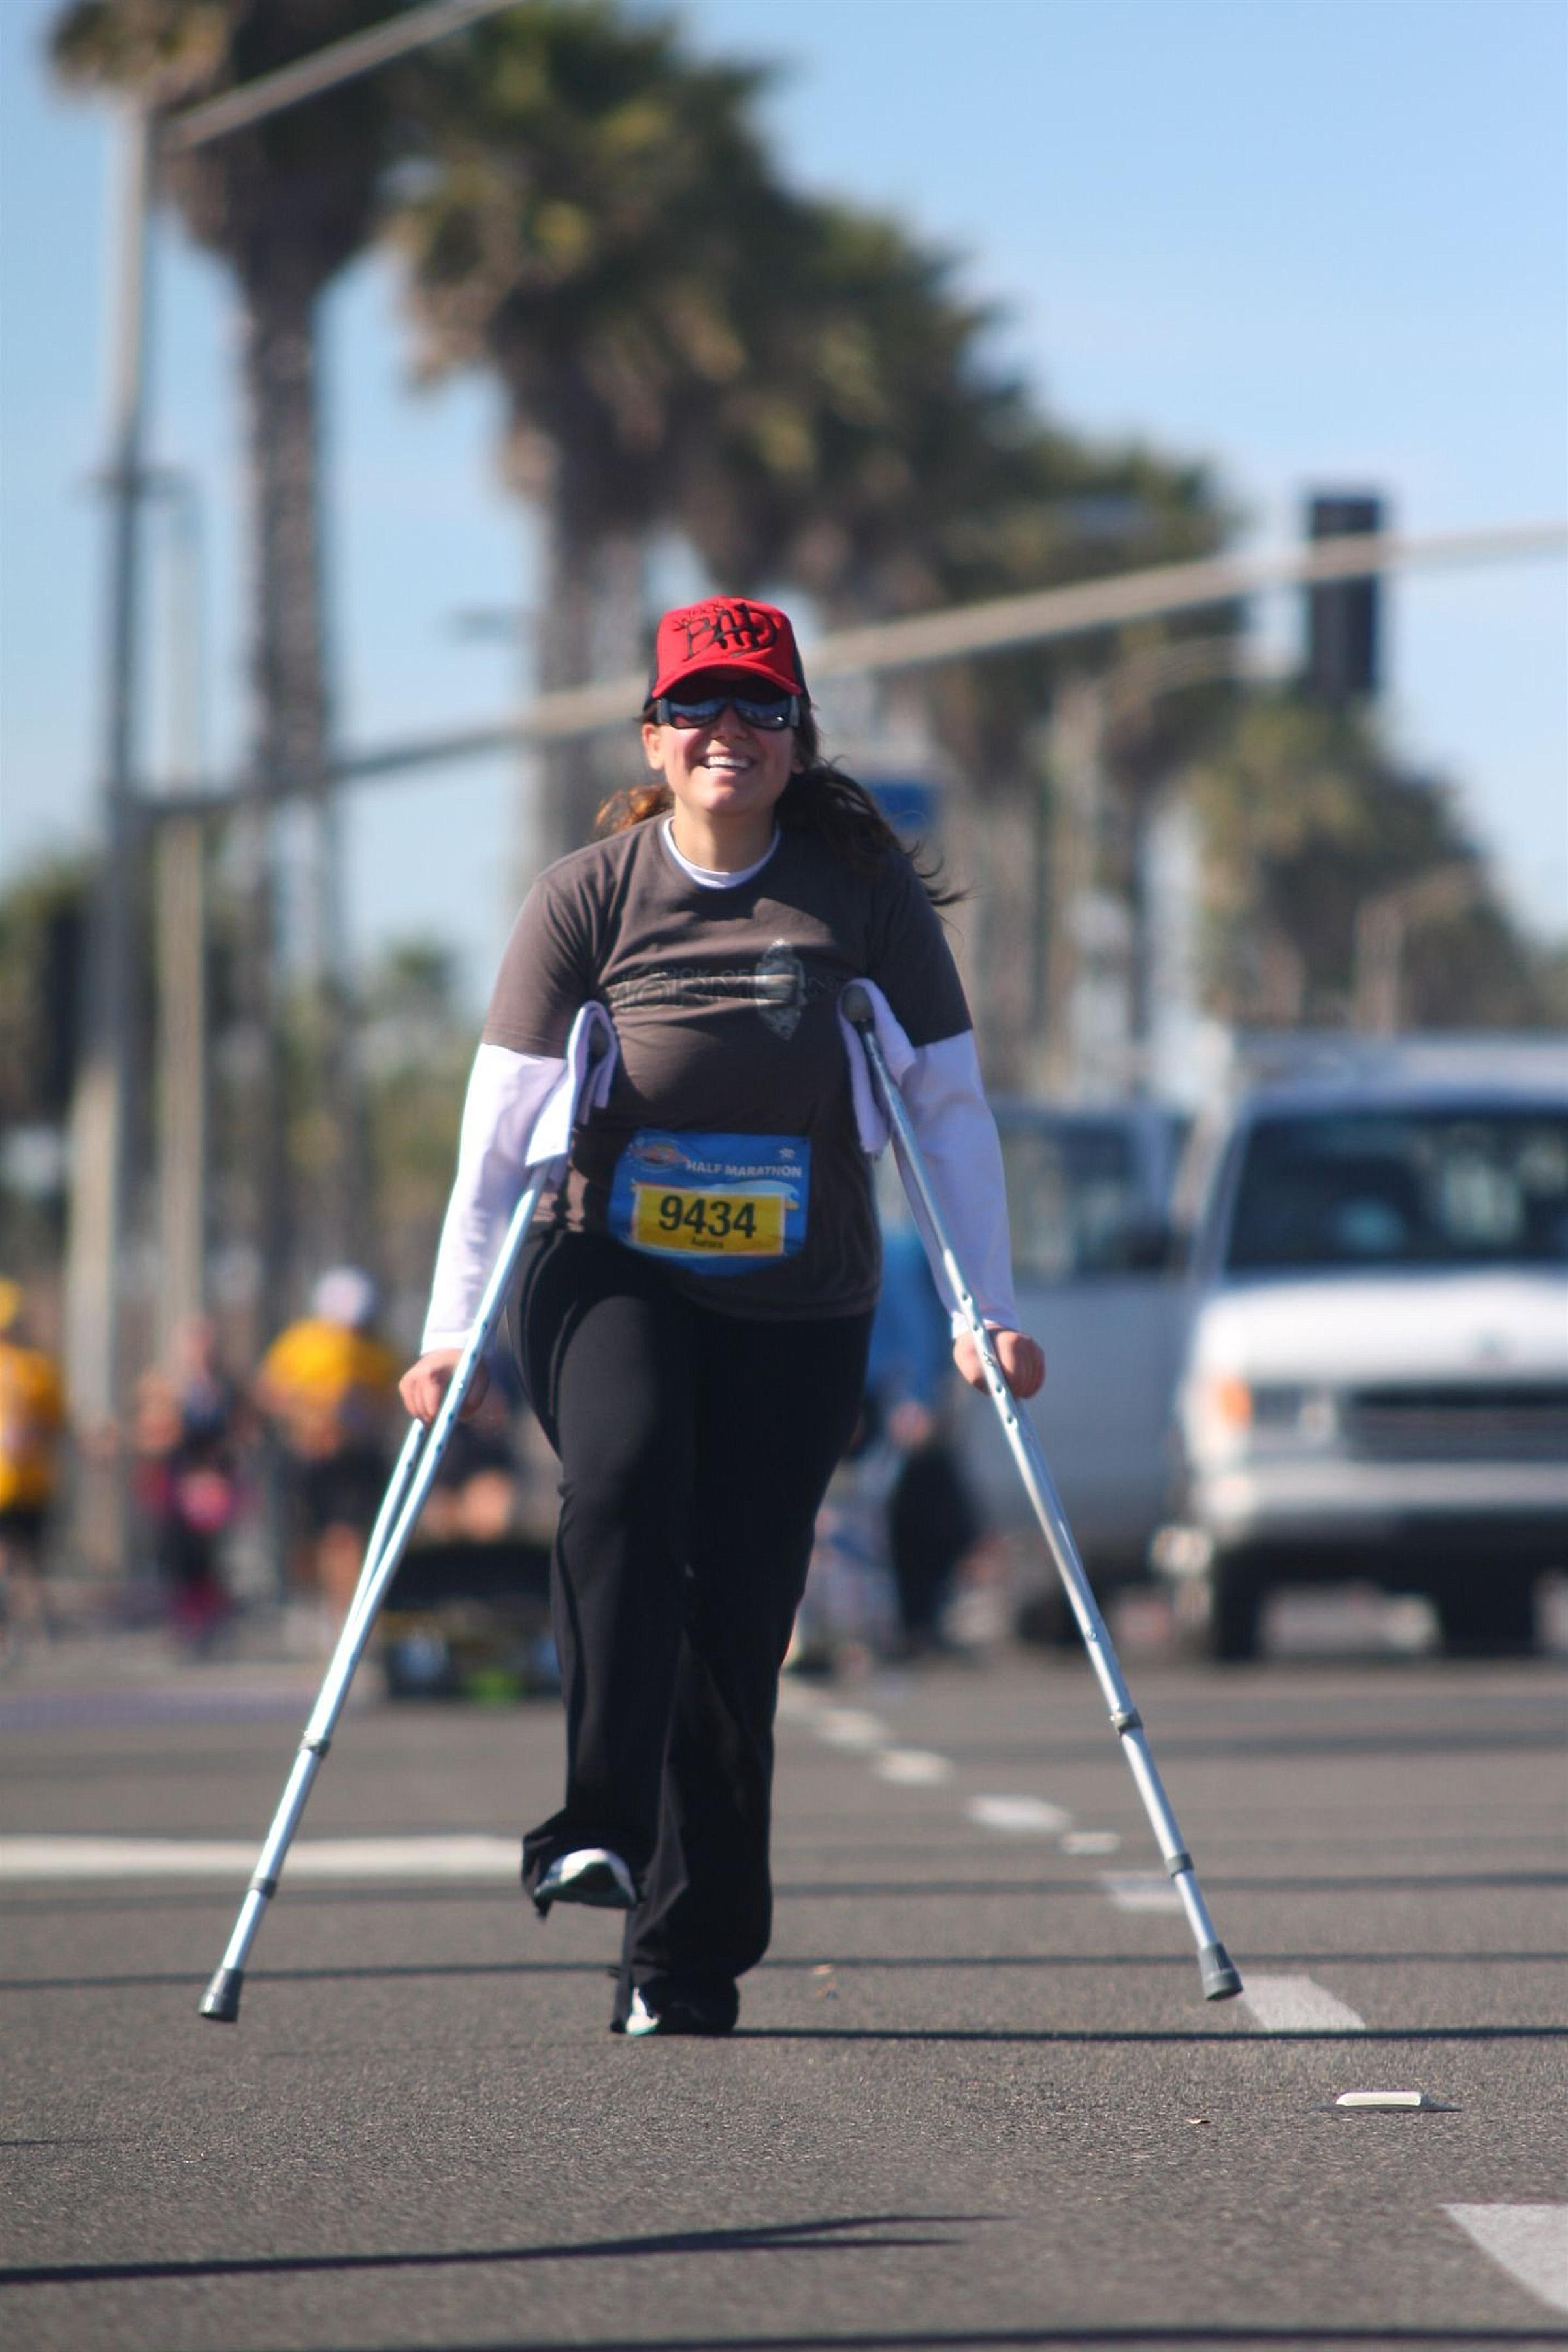crutches: (198, 598, 1246, 2042)
